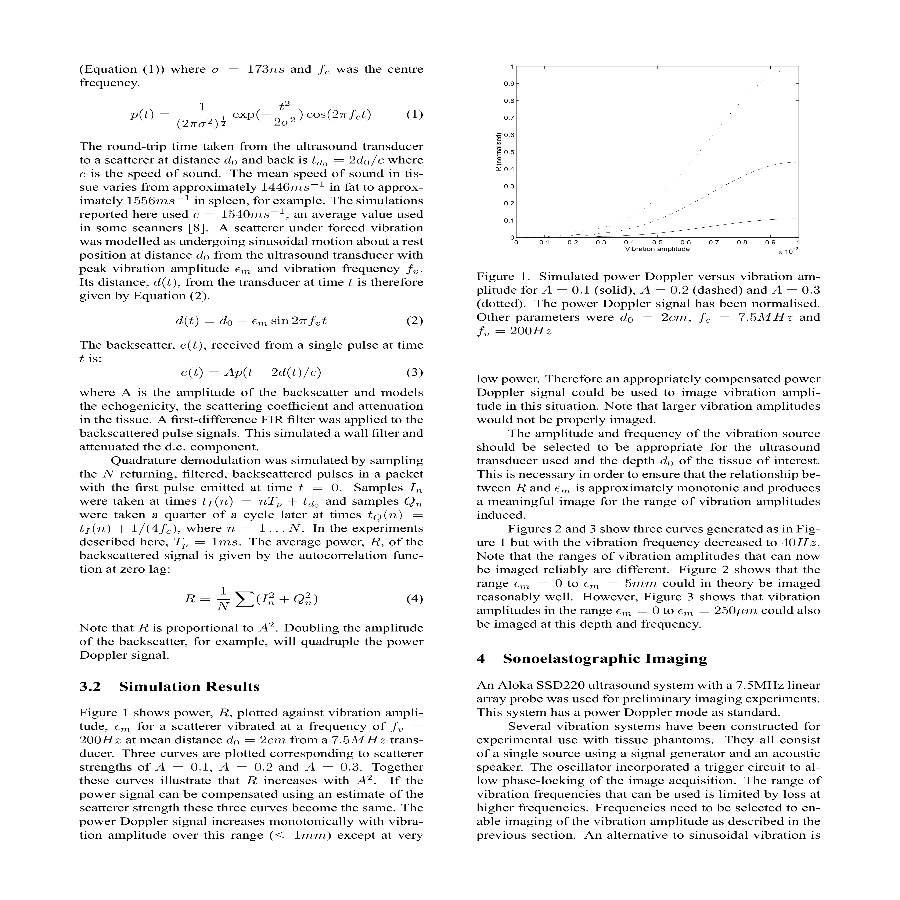eq: (123, 101, 377, 132), (179, 584, 325, 612), (173, 309, 332, 331), (178, 361, 323, 383)
